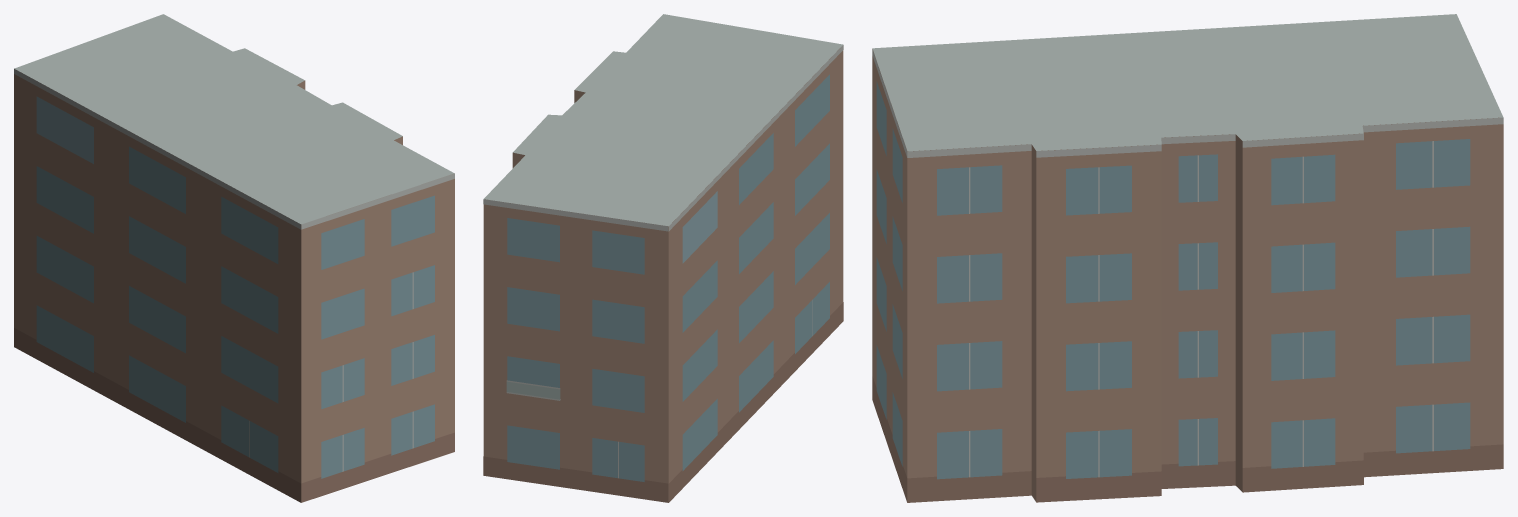
The model's file is survey-upis-32494522.glb.
The picture shows the model from 3 angles, left to right: view 1: azimuth 30°, elevation 25°; view 2: azimuth 150°, elevation 25°; view 3: azimuth 270°, elevation 25°; orthographic projection. The views are drawn at different scales.
Visible parts, largest first — view 1: survey-upis-32494522.tmp; view 2: survey-upis-32494522.tmp; view 3: survey-upis-32494522.tmp.
Boxes of the visible parts, x1=… form: survey-upis-32494522.tmp: x1=14, y1=14, x2=454, y2=502; survey-upis-32494522.tmp: x1=483, y1=14, x2=843, y2=502; survey-upis-32494522.tmp: x1=872, y1=14, x2=1503, y2=502.
Bounding box in the file's own units: 10.75 × 12.8 × 20.85.
